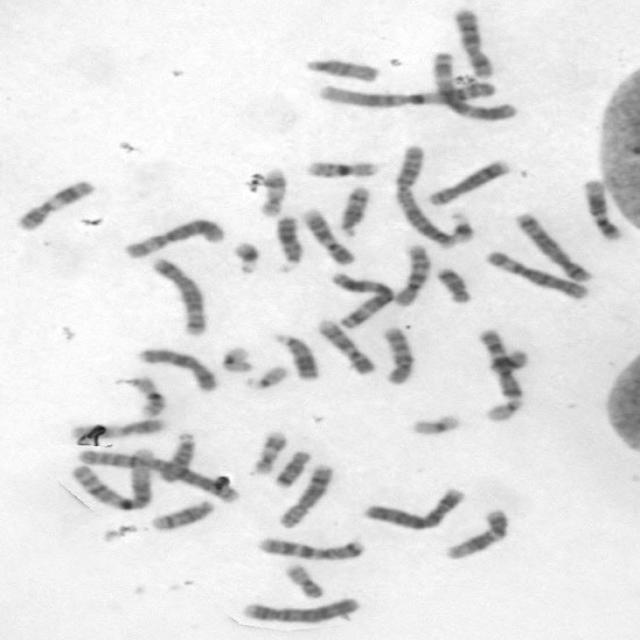A1: (313, 77, 499, 109), (68, 446, 160, 510)
A2: (72, 446, 243, 505), (389, 141, 457, 249)
A3: (425, 48, 520, 122), (326, 270, 396, 330)
B4: (359, 485, 467, 531), (237, 594, 363, 624)
B5: (510, 208, 596, 284), (147, 254, 209, 338)
C10: (389, 240, 433, 308), (377, 323, 418, 385)
C11: (12, 176, 97, 232), (68, 415, 167, 441)
C12: (442, 506, 512, 560), (578, 176, 625, 242)
C6: (481, 248, 591, 300), (120, 213, 227, 260)
C7: (479, 331, 536, 402), (252, 534, 368, 562)
C8: (422, 157, 512, 207), (272, 460, 335, 529)
C9: (312, 316, 378, 376), (296, 204, 358, 266)
D13: (269, 329, 320, 381), (271, 211, 304, 272)
D14: (146, 496, 216, 532), (334, 182, 371, 237)
D15: (156, 429, 198, 484), (301, 56, 381, 82)
E16: (126, 374, 168, 418), (302, 157, 379, 179)
E17: (248, 427, 290, 475), (254, 163, 288, 218)
E18: (269, 447, 313, 488), (431, 263, 473, 304)
F19: (406, 411, 462, 435), (215, 342, 256, 374)
F20: (280, 560, 326, 600), (492, 347, 530, 378)
G21: (228, 238, 263, 276), (444, 209, 476, 245)
G22: (240, 361, 288, 391), (482, 395, 524, 426)
X: (133, 344, 220, 393), (449, 6, 495, 78)
